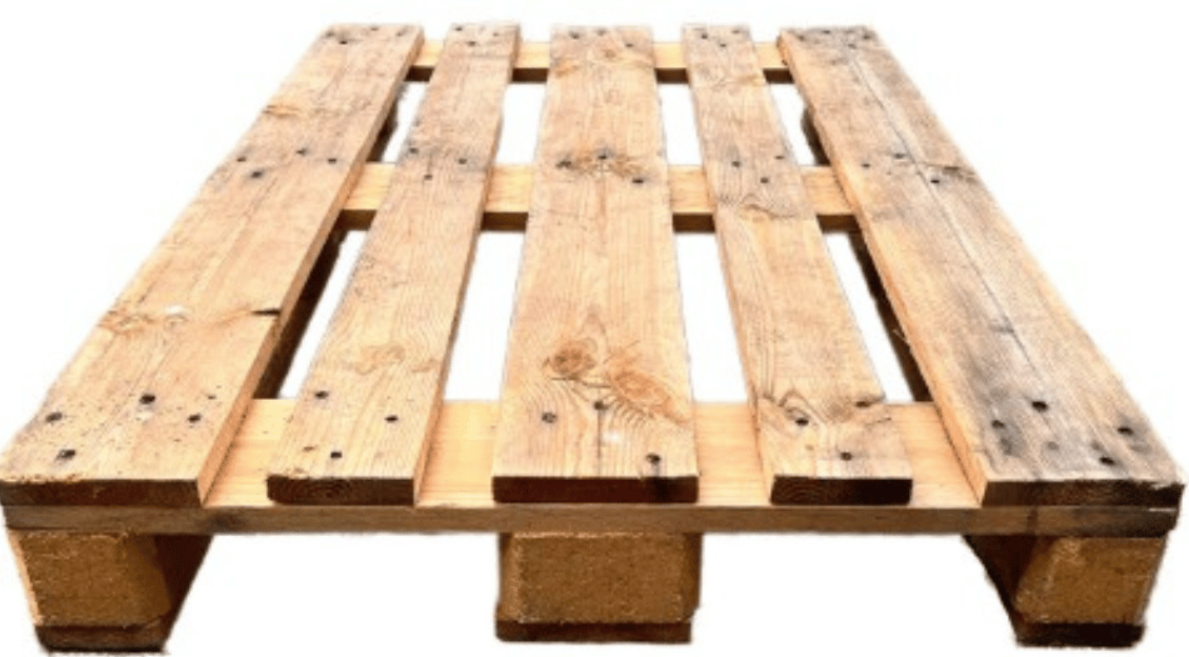block: (489, 476, 704, 646), (1009, 482, 1186, 650), (0, 478, 166, 656)
front: (0, 460, 1188, 656)
hole pallet: (134, 528, 493, 656), (697, 539, 1041, 652)
